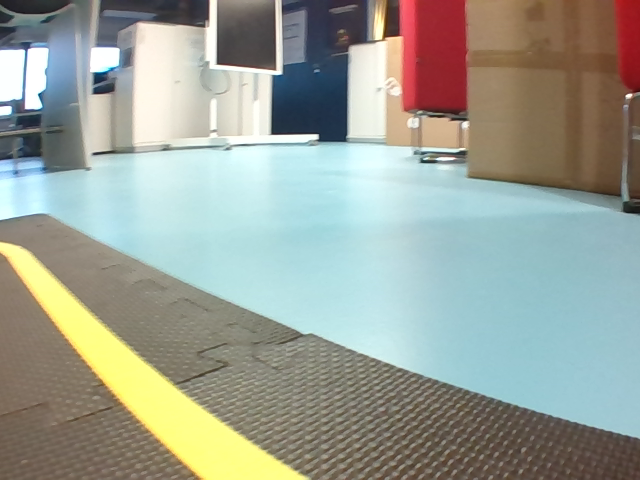30: (306, 108, 332, 136)
stop: (518, 29, 617, 158), (85, 120, 96, 150)
